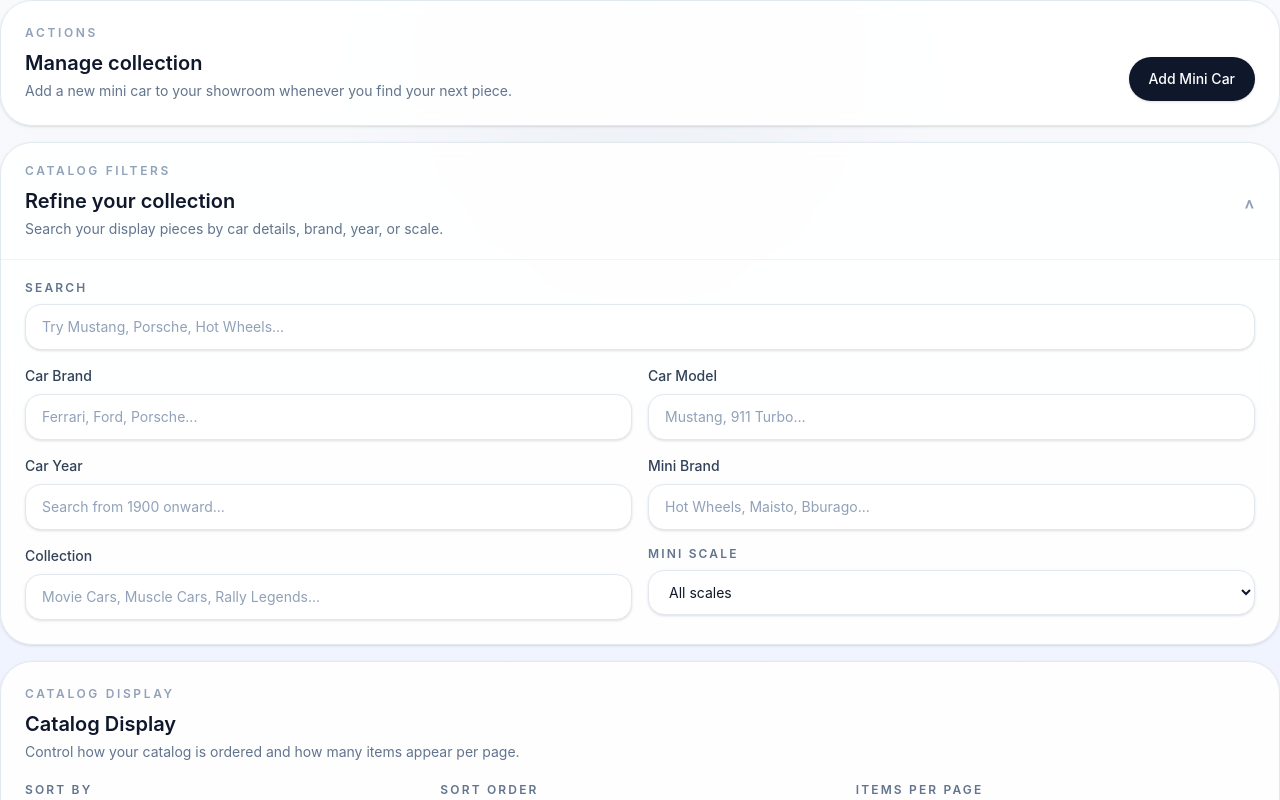
Test case: CatalogToolbar › collapses filters when add mini car is clicked
Click the button "Add Mini Car" at (1192, 79), box [1128,57,1255,101]
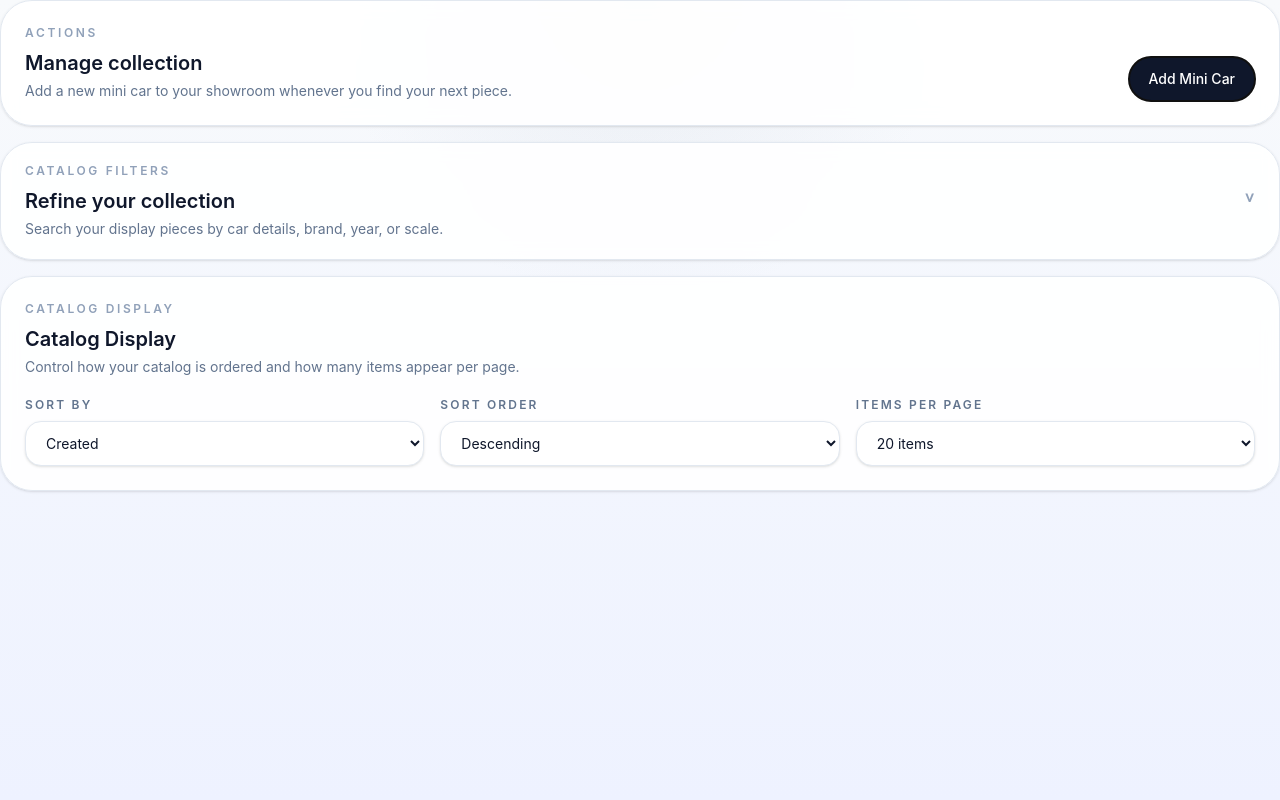
Check: the button "Catalog Filters" is collapsed, box [1,143,1279,259]
